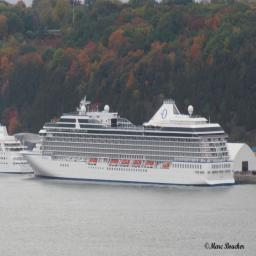cruises: (19, 95, 237, 192)
